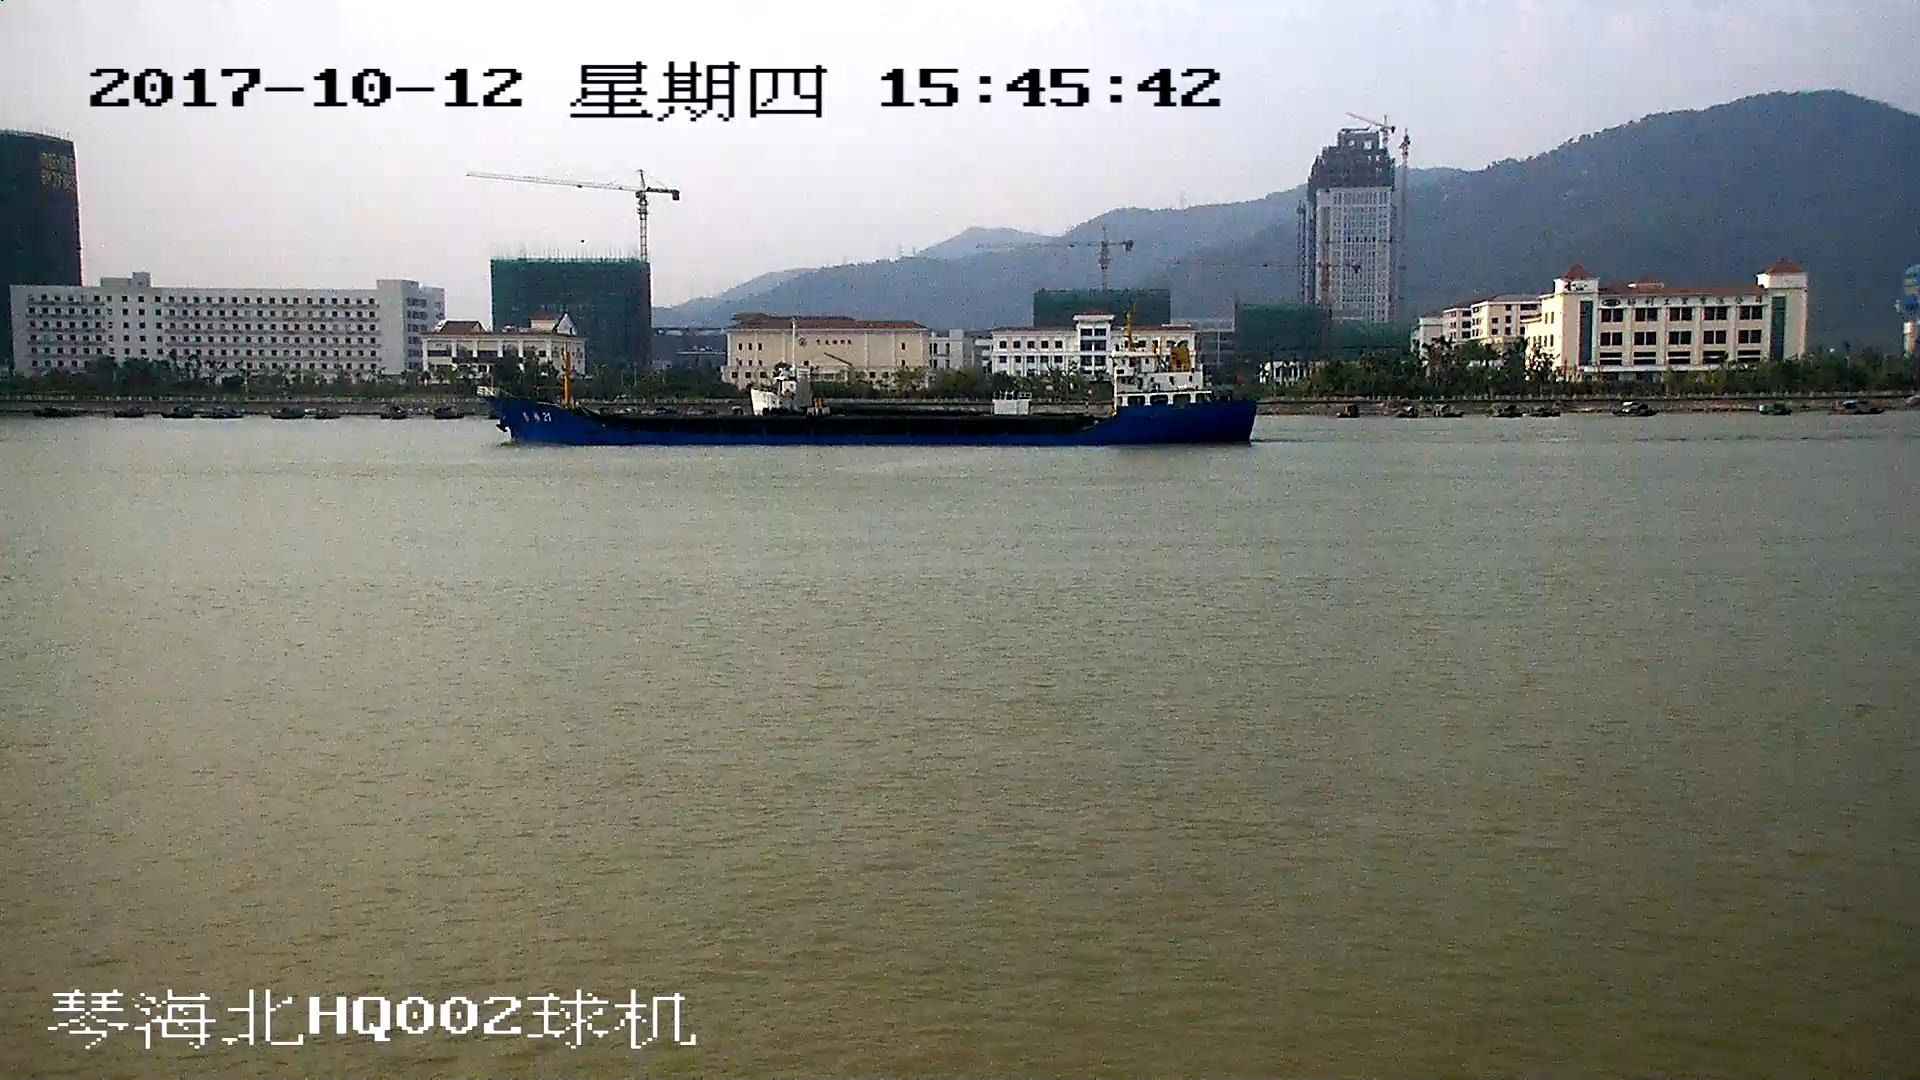general cargo ship: (491, 323, 1255, 449)
